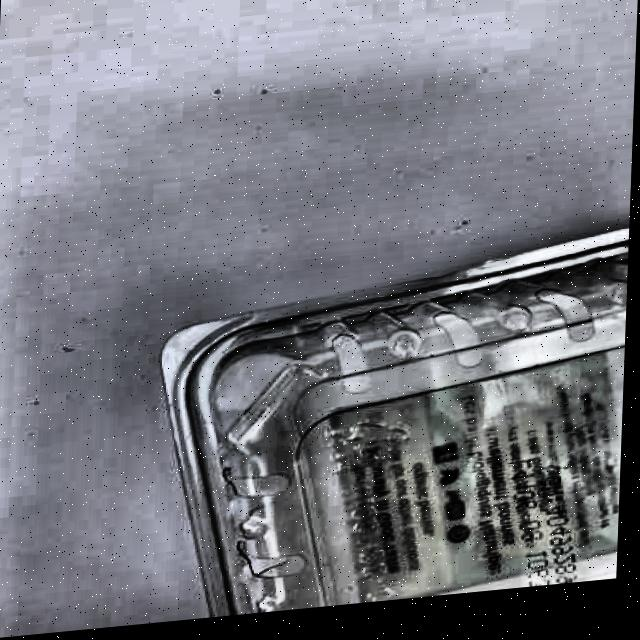plastic: (151, 228, 629, 623)
